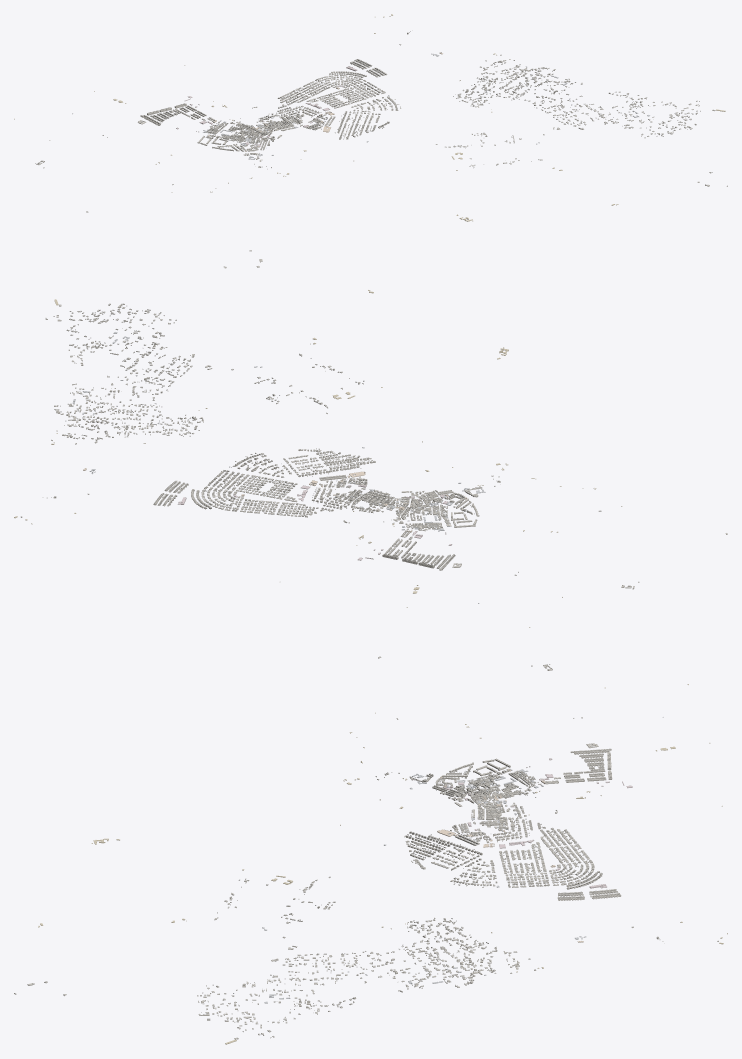
File: almensilla_buildings.glb
3 views of the same model, one above another, from view 1: azimuth 30°, elevation 25°; view 2: azimuth 150°, elevation 25°; view 3: azimuth 270°, elevation 25° (orthographic). The views are drawn at different scales.
Parts seen in each view (by area): view 1: PARAPET_1_1, PARAPET_-1_0, PARAPET_0_1, PARAPET_0_0; view 2: PARAPET_1_1, PARAPET_-1_0, PARAPET_0_0; view 3: PARAPET_1_1, PARAPET_-1_0, PARAPET_1_0, PARAPET_-1_1, PARAPET_0_0.
Part boxes in pixels (<box>): PARAPET_1_1: <box>293,73,383,110</box>; PARAPET_-1_0: <box>211,128,281,158</box>; PARAPET_0_1: <box>252,91,321,127</box>; PARAPET_0_0: <box>265,114,353,139</box>; PARAPET_1_1: <box>197,467,308,514</box>; PARAPET_-1_0: <box>396,487,481,520</box>; PARAPET_0_0: <box>319,456,406,504</box>; PARAPET_1_1: <box>493,840,590,882</box>; PARAPET_-1_0: <box>410,762,496,806</box>; PARAPET_1_0: <box>406,841,494,883</box>; PARAPET_-1_1: <box>487,762,589,800</box>; PARAPET_0_0: <box>404,800,496,841</box>.
Size of the model in its own units: 4819 by 15.9 by 3752.
